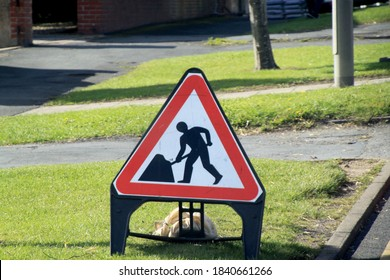caution: (111, 69, 261, 200)
